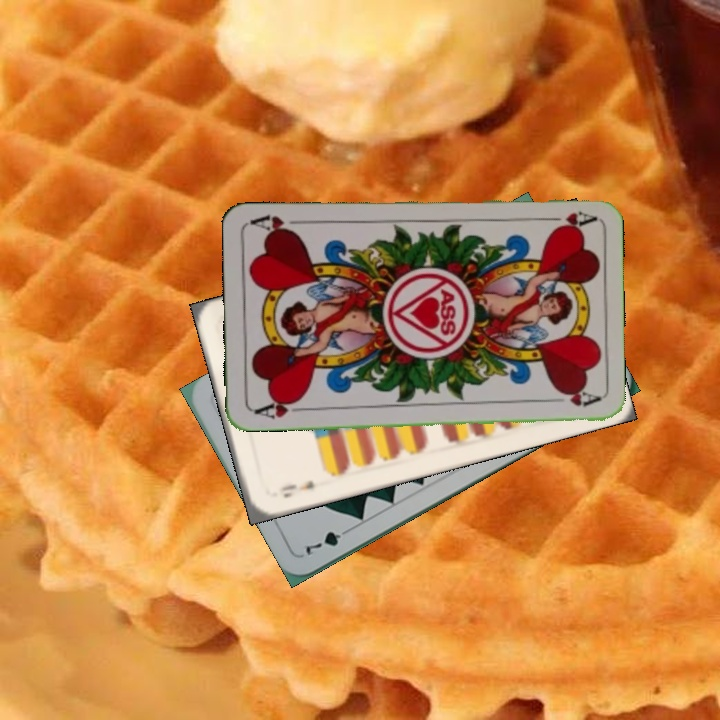E9: (276, 476, 318, 500)
G7: (301, 523, 354, 558)
HA: (250, 395, 309, 421), (537, 207, 596, 233)
